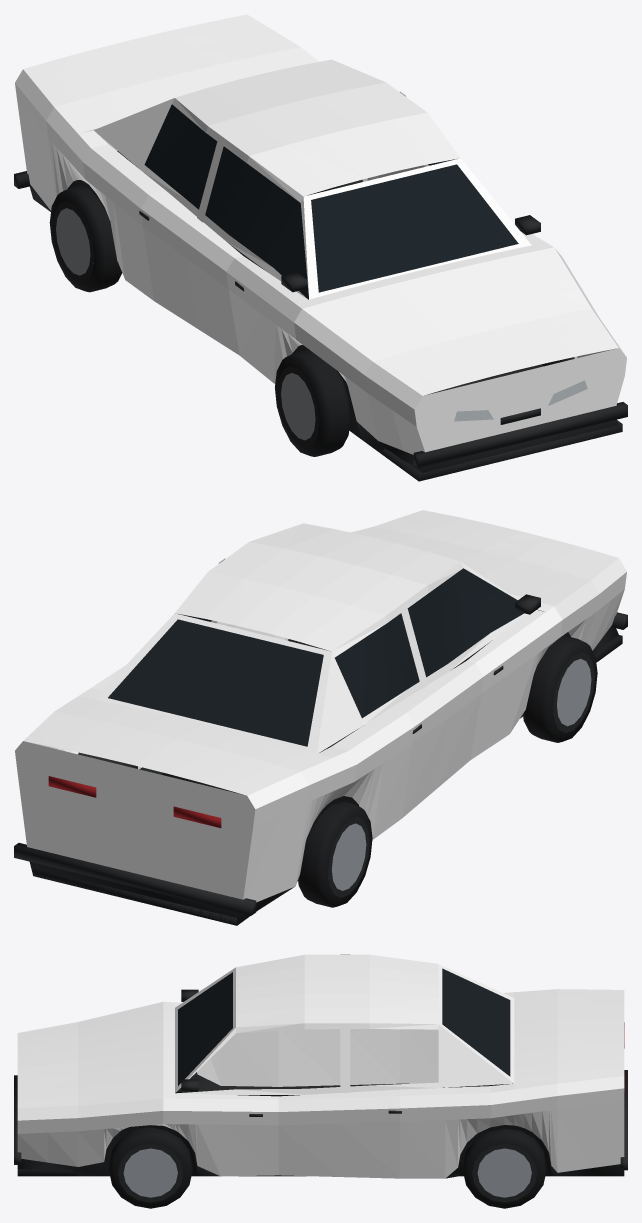
File: sanga_tecido.glb
The picture shows the model from 3 angles, top to bottom: view 1: azimuth 30°, elevation 25°; view 2: azimuth 150°, elevation 25°; view 3: azimuth 270°, elevation 25°; orthographic projection. The views are drawn at different scales.
Visible parts, largest first — view 1: Body_Paint, Body_Details, Mount_FrontLeft_Wheel_Details, Mount_RearLeft_Wheel_Details; view 2: Body_Paint, Body_Details, Mount_RearLeft_Wheel_Details, Mount_FrontLeft_Wheel_Details; view 3: Body_Paint, Body_Details, Mount_FrontRight_Wheel_Details, Mount_RearRight_Wheel_Details.
Part boxes in pixels (left/top/right/bottom): Body_Paint: left=15, top=14, right=626, bottom=454; Body_Details: left=14, top=104, right=627, bottom=481; Mount_FrontLeft_Wheel_Details: left=275, top=350, right=350, bottom=456; Mount_RearLeft_Wheel_Details: left=49, top=185, right=122, bottom=292; Body_Paint: left=15, top=510, right=626, bottom=902; Body_Details: left=14, top=568, right=627, bottom=925; Mount_RearLeft_Wheel_Details: left=298, top=801, right=372, bottom=907; Mount_FrontLeft_Wheel_Details: left=523, top=635, right=597, bottom=742; Body_Paint: left=17, top=954, right=624, bottom=1178; Body_Details: left=14, top=968, right=627, bottom=1178; Mount_FrontRight_Wheel_Details: left=109, top=1127, right=192, bottom=1208; Mount_RearRight_Wheel_Details: left=463, top=1128, right=546, bottom=1208.
Bounding box in the file's own units: 1.85 × 1.4 × 4.55.
Materials: 2 (1 with a texture image).
